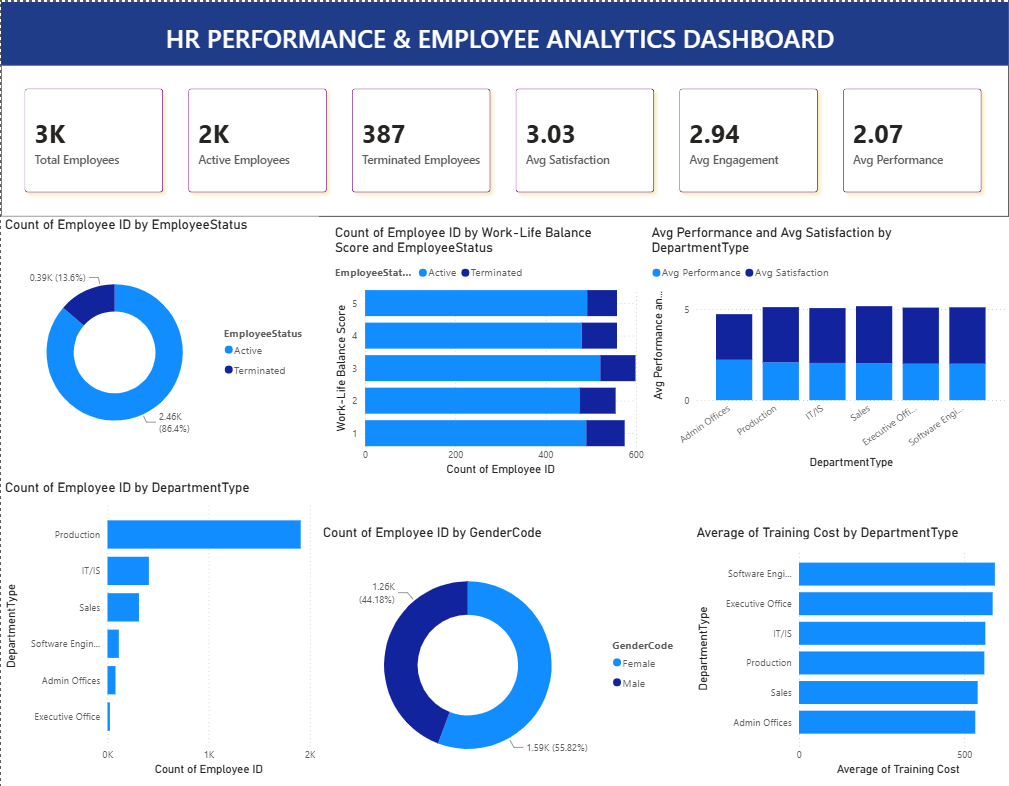

The dashboard page shown, as its layout file describes it:
{"tool":"powerbi","page":{"name":"Page 1","canvas":[1280,1000],"ordinal":0},"visuals":[{"type":"cardVisual","fields":{"Data":["Cleaned_HR_Data_Analysis.Total Employees","Cleaned_HR_Data_Analysis.Active Employees","Cleaned_HR_Data_Analysis.Terminated","Cleaned_HR_Data_Analysis.Avg Satisfaction","Cleaned_HR_Data_Analysis.Avg Engagement","Cleaned_HR_Data_Analysis.Avg Performance"]},"box":[0,80.1,1280.8,192.5],"z":0},{"type":"textbox","box":[0,0,1280.8,80.1],"z":1000},{"type":"donutChart","fields":{"Category":["Cleaned_HR_Data_Analysis.EmployeeStatus"],"Y":["CountNonNull(Cleaned_HR_Data_Analysis.Employee ID)"]},"box":[0,272.6,404.1,324],"z":2000},{"type":"barChart","fields":{"Category":["Cleaned_HR_Data_Analysis.DepartmentType"],"Y":["CountNonNull(Cleaned_HR_Data_Analysis.Employee ID)"]},"box":[0,606.1,404.1,381.2],"z":3000},{"type":"donutChart","fields":{"Category":["Cleaned_HR_Data_Analysis.GenderCode"],"Y":["CountNonNull(Cleaned_HR_Data_Analysis.Employee ID)"]},"box":[404.1,663.3,474.6,337.4],"z":4000},{"type":"columnChart","fields":{"Category":["Cleaned_HR_Data_Analysis.DepartmentType"],"Y":["Cleaned_HR_Data_Analysis.Avg Performance","Cleaned_HR_Data_Analysis.Avg Satisfaction"]},"box":[821.5,282.1,459.3,314.5],"z":5000},{"type":"barChart","fields":{"Category":["Cleaned_HR_Data_Analysis.DepartmentType"],"Y":["Avg(Cleaned_HR_Data_Analysis.Training Cost)"]},"box":[878.7,663.3,402.2,324],"z":6000},{"type":"barChart","fields":{"Category":["Cleaned_HR_Data_Analysis.Work-Life Balance Score"],"Series":["Cleaned_HR_Data_Analysis.EmployeeStatus"],"Y":["CountNonNull(Cleaned_HR_Data_Analysis.Employee ID)"]},"box":[419.3,282.1,402.2,324],"z":7000}]}

Visuals, with their boxes in screenshot pixels (x1, y1, x2, y2), scaled from the page's 1280x1000 canvas onto the 1009x786 screenshot:
cardVisual - Cleaned_HR_Data_Analysis.Total Employees x Cleaned_HR_Data_Analysis.Active Employees: [0,63,1008,214]
textbox: [0,0,1008,63]
donutChart - Cleaned_HR_Data_Analysis.EmployeeStatus x CountNonNull(Cleaned_HR_Data_Analysis.Employee ID): [0,214,319,469]
barChart - Cleaned_HR_Data_Analysis.DepartmentType x CountNonNull(Cleaned_HR_Data_Analysis.Employee ID): [0,476,319,776]
donutChart - Cleaned_HR_Data_Analysis.GenderCode x CountNonNull(Cleaned_HR_Data_Analysis.Employee ID): [319,521,693,785]
columnChart - Cleaned_HR_Data_Analysis.DepartmentType x Cleaned_HR_Data_Analysis.Avg Performance: [648,222,1008,469]
barChart - Cleaned_HR_Data_Analysis.DepartmentType x Avg(Cleaned_HR_Data_Analysis.Training Cost): [693,521,1008,776]
barChart - Cleaned_HR_Data_Analysis.Work-Life Balance Score x Cleaned_HR_Data_Analysis.EmployeeStatus: [331,222,648,476]
